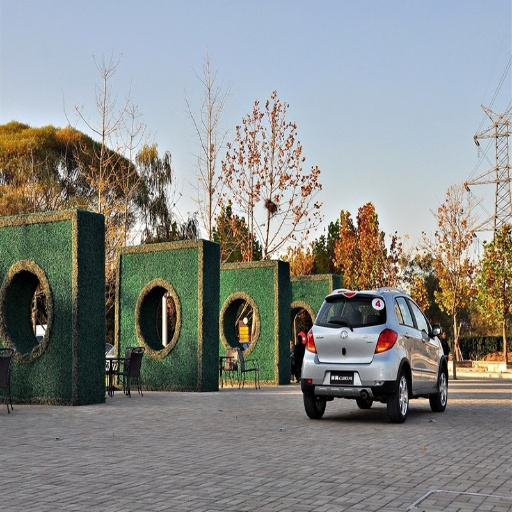trunk: (307, 296, 426, 363), (119, 243, 206, 309)
